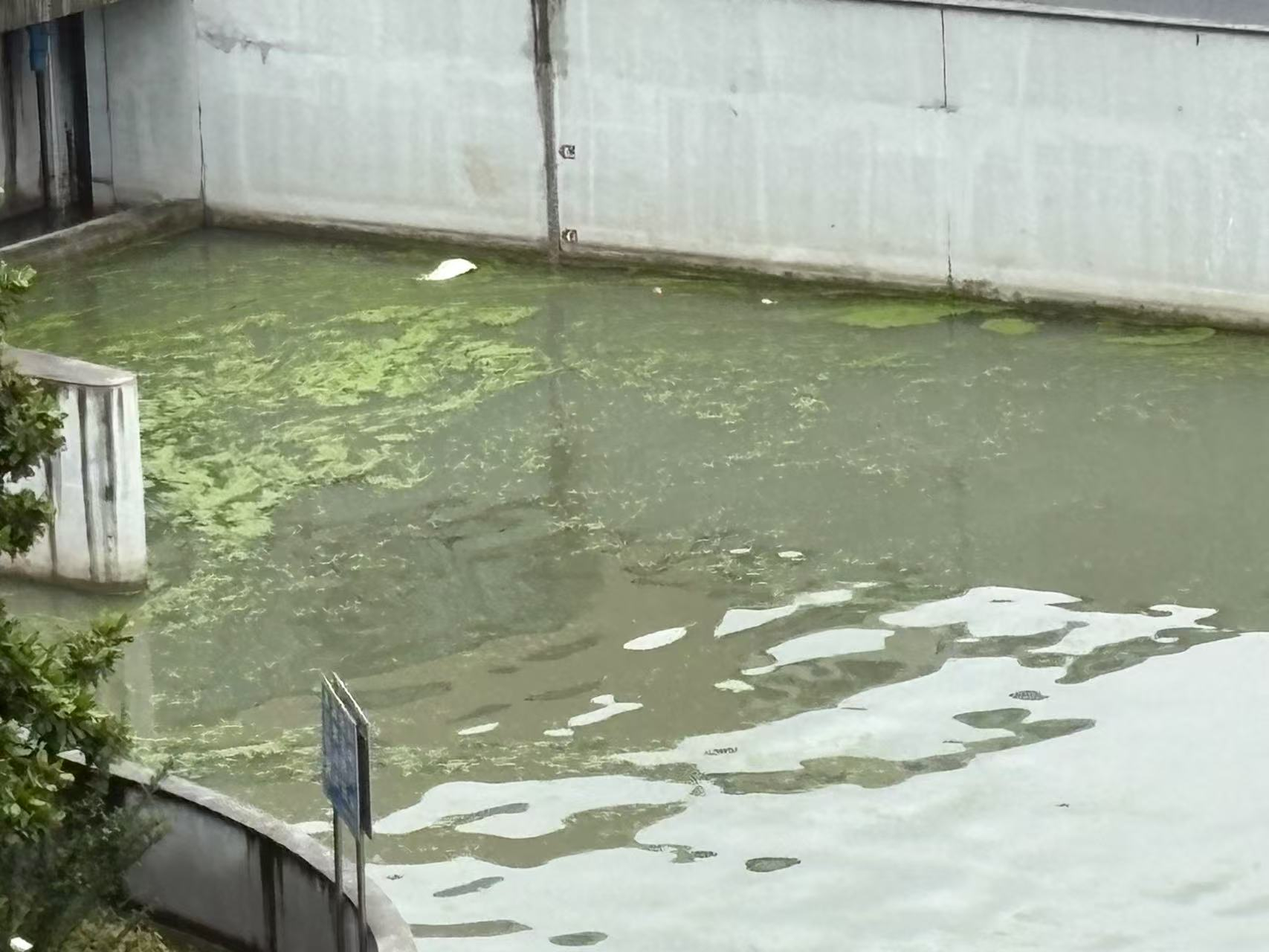Other: (147, 397, 292, 532), (314, 339, 539, 393), (227, 263, 407, 328), (142, 327, 297, 387), (845, 296, 1053, 337), (1116, 326, 1208, 345)
Plastic wastes: (421, 254, 478, 283)
